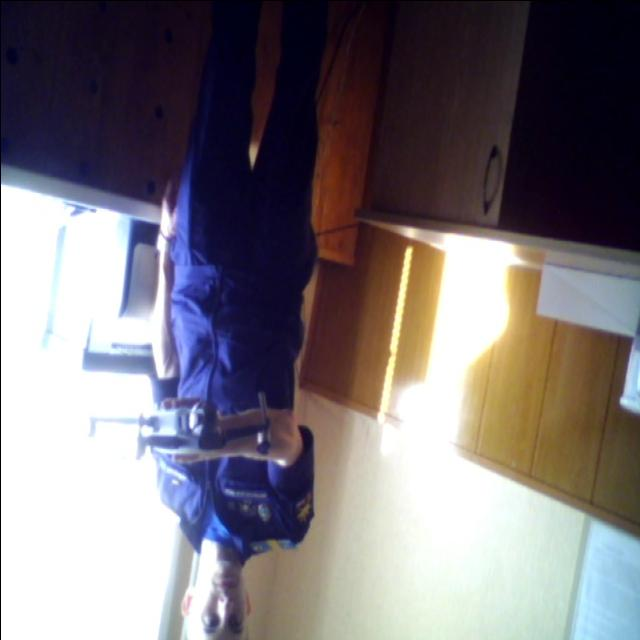drone: (77, 366, 286, 474)
